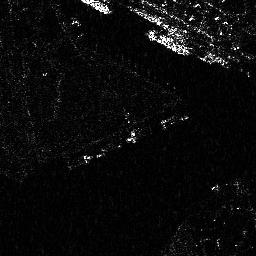ship: (146, 31, 194, 55)
